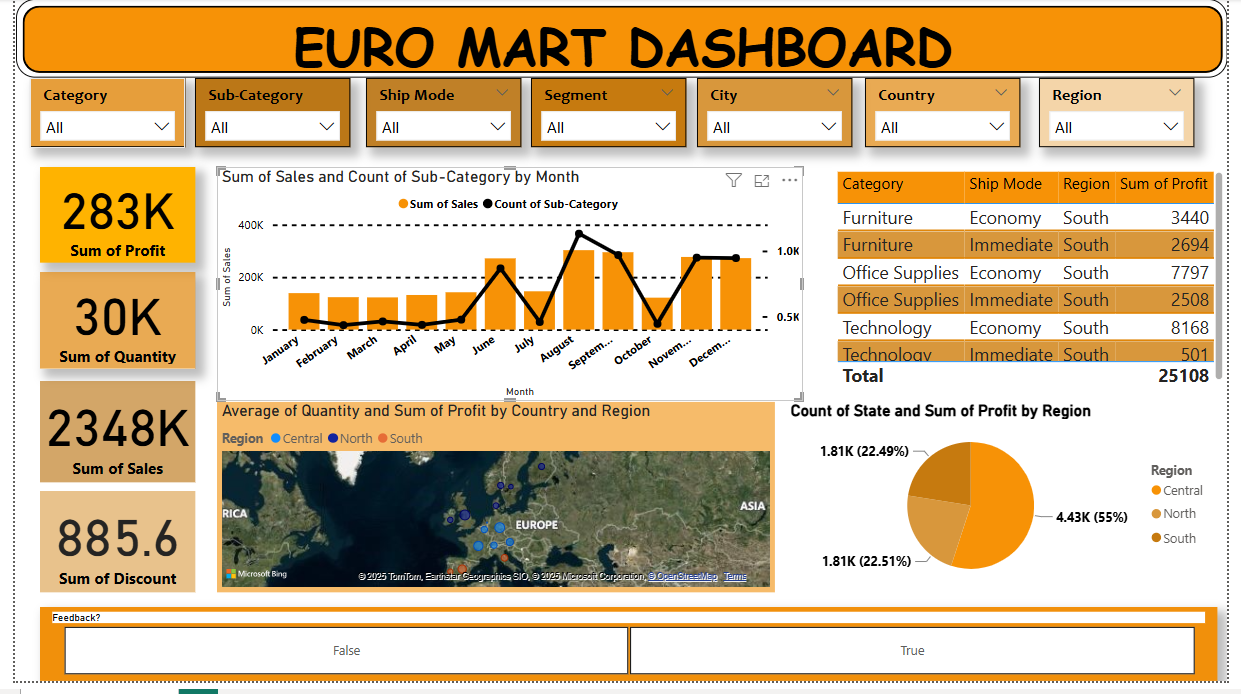

The dashboard page shown, as its layout file describes it:
{"tool":"powerbi","page":{"name":"Euro Mart Dashboard","canvas":[1280,720],"ordinal":0},"visuals":[{"type":"shape","box":[1.1,0,1279.4,83.2],"z":0},{"type":"slicer","fields":{"Values":["Order Data.Category"]},"box":[15.8,83.5,164.2,73.4],"z":1000},{"type":"slicer","fields":{"Values":["Order Data.Ship Mode"]},"box":[370.1,83.5,164.2,73.4],"z":2000},{"type":"slicer","fields":{"Values":["Order Data.Segment"]},"box":[544.3,83.5,164.2,73.4],"z":3000},{"type":"slicer","fields":{"Values":["Order Data.Sub-Category"]},"box":[190.1,83.5,164.2,73.4],"z":4000},{"type":"slicer","fields":{"Values":["Order Data.City"]},"box":[720,83.5,164.2,73.4],"z":5000},{"type":"slicer","fields":{"Values":["Order Data.Region"]},"box":[1081.4,83.5,164.2,73.4],"z":6000},{"type":"slicer","fields":{"Values":["Order Data.Country"]},"box":[897.1,83.5,164.2,73.4],"z":7000},{"type":"lineStackedColumnComboChart","fields":{"Y":["Sum(Order Data.Sales)"],"Y2":["CountNonNull(Order Data.Sub-Category)"],"Category":["Order Data.Order Date.Variation.Date Hierarchy.Month"]},"box":[213.1,177.1,619.2,247.7],"z":8000},{"type":"card","fields":{"Values":["Sum(Order Data.Profit)"]},"box":[25.9,177.1,164.2,100.8],"z":9000},{"type":"card","fields":{"Values":["Sum(Order Data.Quantity)"]},"box":[25.9,288,164.2,102.2],"z":10000},{"type":"card","fields":{"Values":["Sum(Order Data.Discount)"]},"box":[25.9,519.8,164.2,106.6],"z":11000},{"type":"card","fields":{"Values":["Sum(Order Data.Sales)"]},"box":[25.9,403.2,164.2,106.6],"z":12000},{"type":"tableEx","fields":{"Values":["Order Data.Category","Order Data.Ship Mode","Order Data.Region","Order Data.Sum of Profit"]},"box":[862.6,177.1,417.6,237.6],"z":13000},{"type":"slicer","fields":{"Values":["Order Data.Feedback?"]},"box":[25.9,642.2,1242.7,77.8],"z":14000},{"type":"map","fields":{"Category":["Order Data.Country"],"Series":["Order Data.Region"],"Y":["Avg(Order Data.Quantity)"],"Size":["Sum(Order Data.Profit)"]},"box":[213.1,424.8,589,201.6],"z":15000},{"type":"pieChart","fields":{"Category":["Order Data.Region"],"Y":["CountNonNull(Order Data.State)"]},"box":[813.6,424.8,455,201.6],"z":16000}]}

Visuals, with their boxes in screenshot pixels (x1, y1, x2, y2), scaled from the page's 1280x720 canvas onto the 1241x694 screenshot:
shape: x1=1 y1=0 x2=1240 y2=80
slicer - Order Data.Category: x1=15 y1=80 x2=175 y2=151
slicer - Order Data.Ship Mode: x1=359 y1=80 x2=518 y2=151
slicer - Order Data.Segment: x1=528 y1=80 x2=687 y2=151
slicer - Order Data.Sub-Category: x1=184 y1=80 x2=344 y2=151
slicer - Order Data.City: x1=698 y1=80 x2=857 y2=151
slicer - Order Data.Region: x1=1048 y1=80 x2=1208 y2=151
slicer - Order Data.Country: x1=870 y1=80 x2=1029 y2=151
lineStackedColumnComboChart - Sum(Order Data.Sales) x CountNonNull(Order Data.Sub-Category): x1=207 y1=171 x2=807 y2=409
card - Sum(Order Data.Profit): x1=25 y1=171 x2=184 y2=268
card - Sum(Order Data.Quantity): x1=25 y1=278 x2=184 y2=376
card - Sum(Order Data.Discount): x1=25 y1=501 x2=184 y2=604
card - Sum(Order Data.Sales): x1=25 y1=389 x2=184 y2=491
tableEx - Order Data.Category x Order Data.Ship Mode: x1=836 y1=171 x2=1240 y2=400
slicer - Order Data.Feedback?: x1=25 y1=619 x2=1230 y2=693
map - Order Data.Country x Order Data.Region: x1=207 y1=409 x2=778 y2=604
pieChart - Order Data.Region x CountNonNull(Order Data.State): x1=789 y1=409 x2=1230 y2=604
